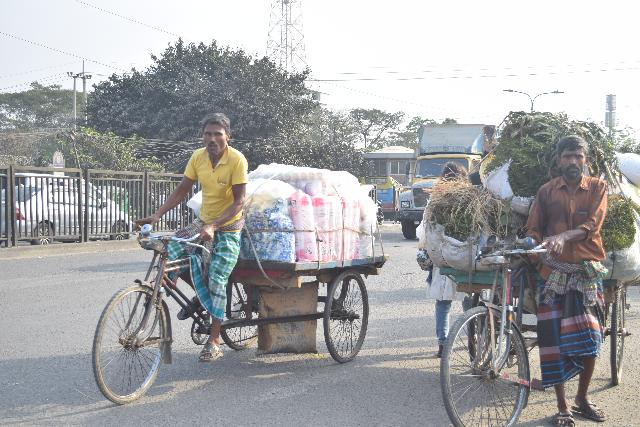car: (0, 179, 139, 241)
truck: (384, 117, 497, 234)
